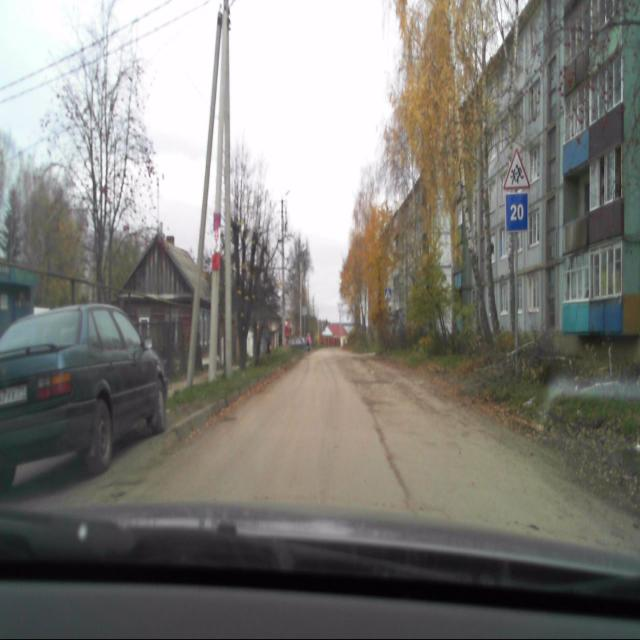road sign: (502, 148, 531, 190), (504, 192, 528, 230)
